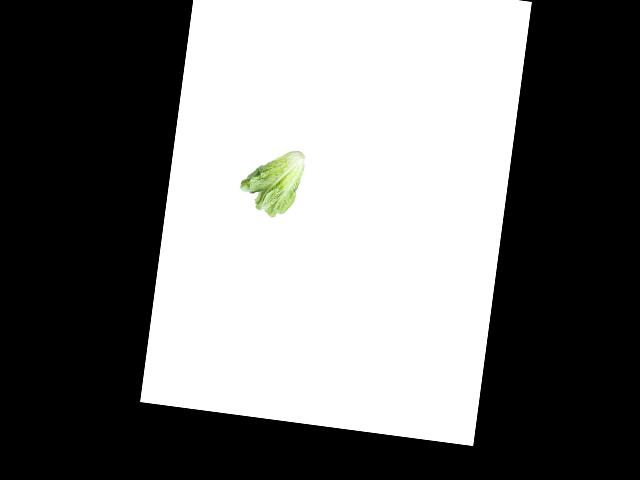lettuce: (233, 145, 309, 220)
